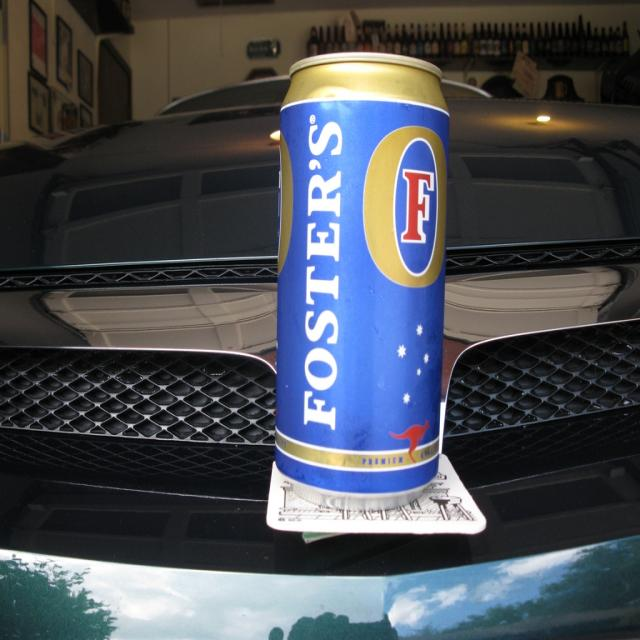fosters: (361, 124, 450, 291)
